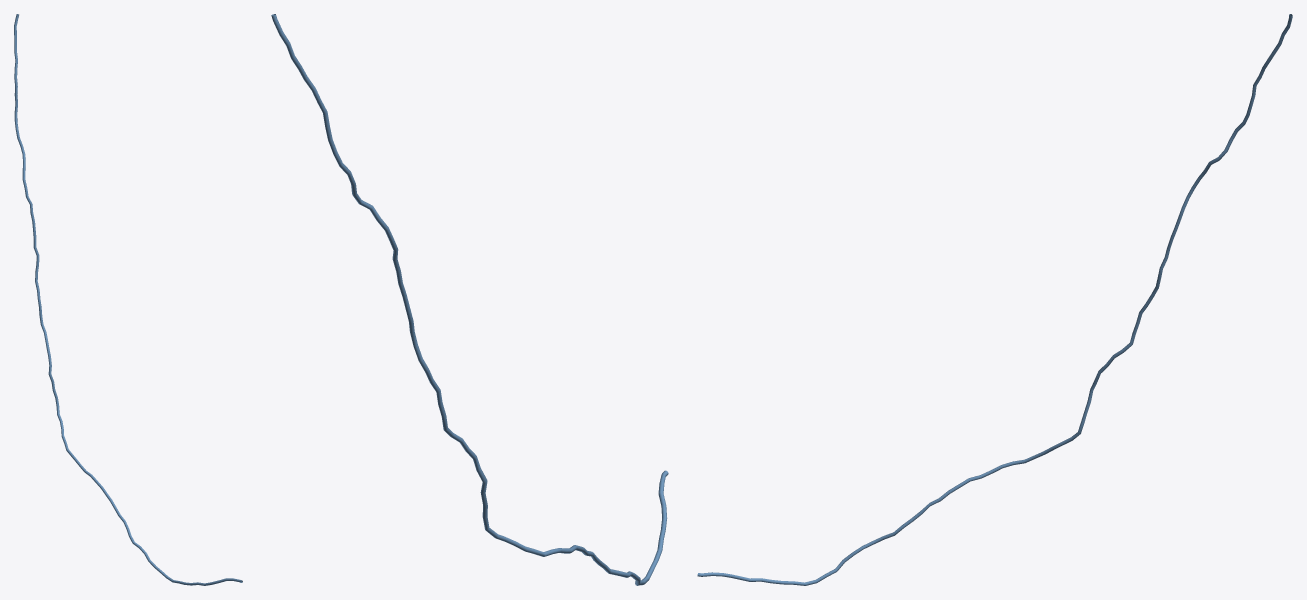
Rendered from sweep215.fbx.
3 renders of one model, left to right at view 1: azimuth 30°, elevation 25°; view 2: azimuth 150°, elevation 25°; view 3: azimuth 270°, elevation 25°, orthographic. The views are drawn at different scales.
Visible parts, largest first — view 1: sweep215; view 2: sweep215; view 3: sweep215.
Part boxes in pixels (x1=…): sweep215: x1=14, y1=14, x2=242, y2=585; sweep215: x1=271, y1=14, x2=668, y2=585; sweep215: x1=697, y1=14, x2=1292, y2=585.
Size of the model in its own units: 0.474 by 3.45 by 3.17.
